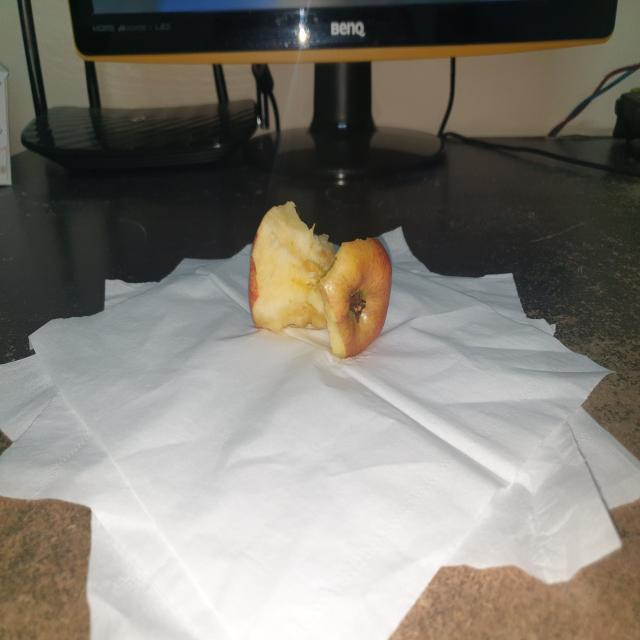apple: (236, 197, 400, 367)
